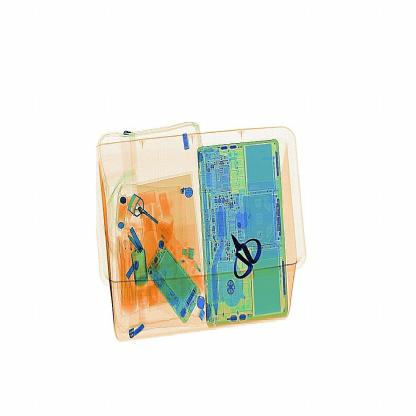gun: (227, 221, 264, 289)
